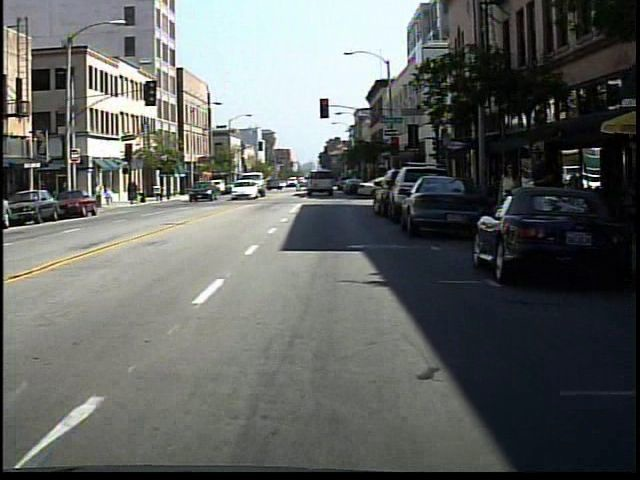person: (521, 141, 557, 255), (496, 155, 523, 252), (92, 179, 107, 208), (106, 184, 120, 211)
